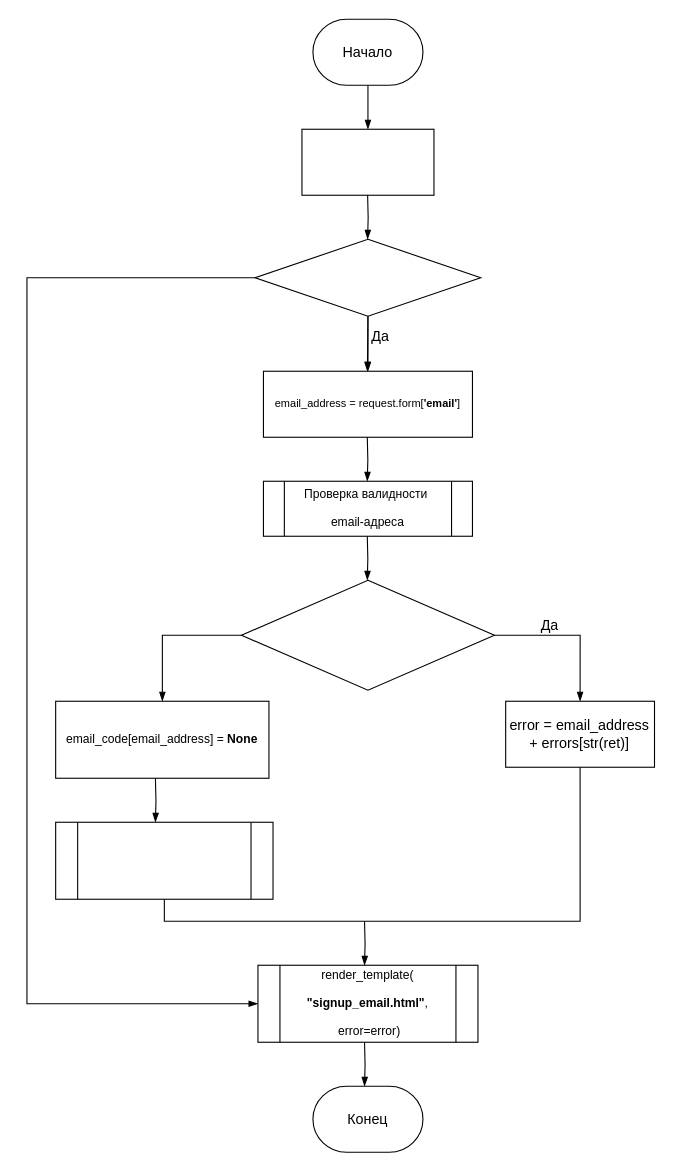
This 674x1172 diagram has some shape labels left out. The centre of each missing label's shape, as x and y in pixels:
error = None: (367,161)
redirect(url_for( '.signup_password' , email_address=email_address)): (164,860)
Статус-код проверки не равен SIGNUP_EMAIL_SUCCESS?: (367,634)
Тип HTTP-запроса - POST?: (367,277)
